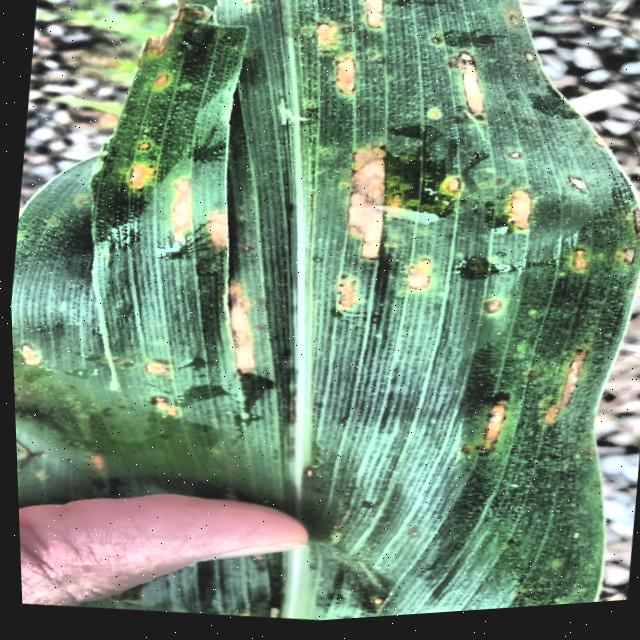gray_spot: (8, 0, 640, 550)
